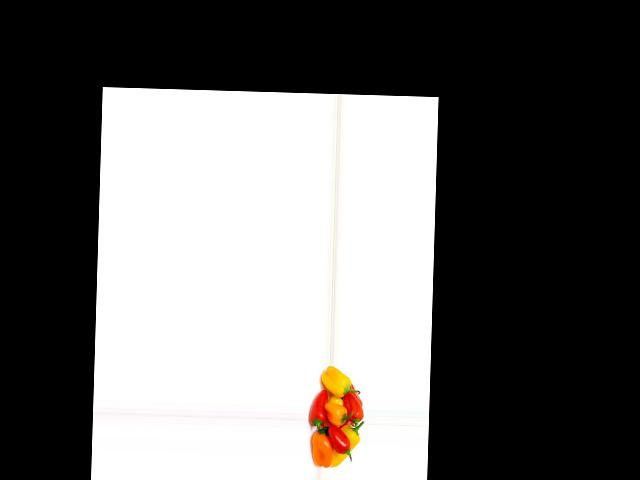bell_pepper: (330, 424, 362, 467)
